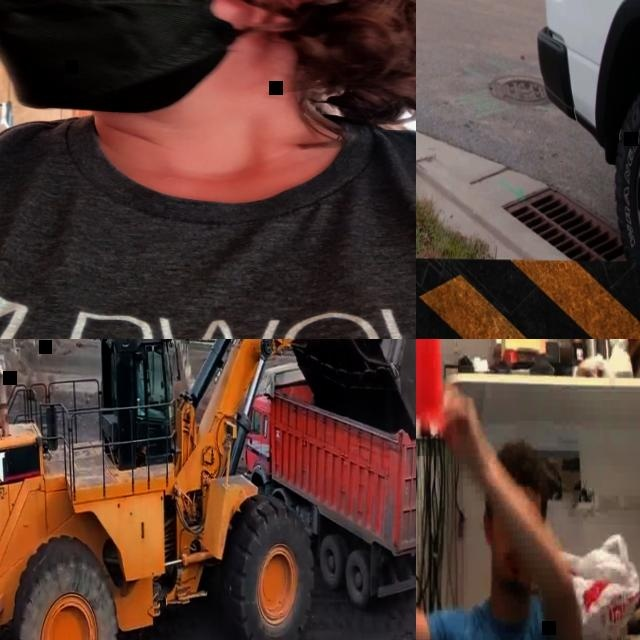Mask: (0, 0, 272, 114)
NO-Hardhat: (494, 437, 546, 502)
NO-Mask: (490, 548, 533, 592)
NO-Safety Vest: (0, 115, 416, 339), (448, 598, 566, 640), (135, 369, 143, 401)
Person: (0, 0, 416, 339), (416, 366, 582, 640), (135, 361, 167, 434)
machinery: (0, 339, 416, 640), (238, 357, 416, 615)
vehicle: (534, 0, 640, 256)
